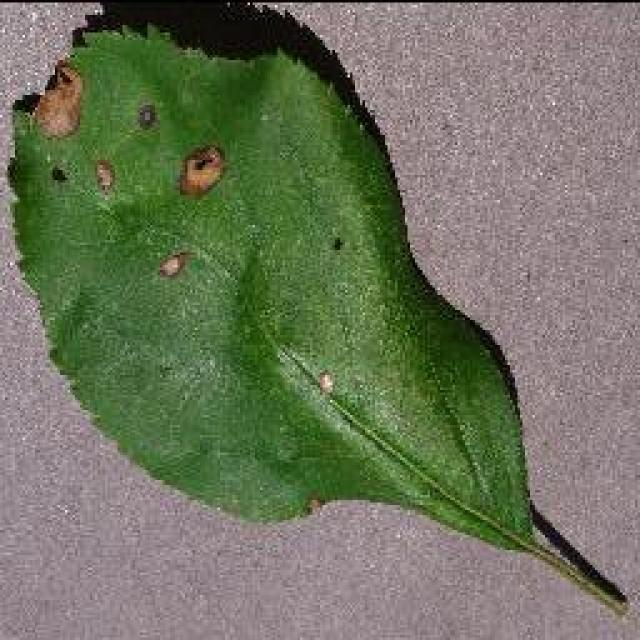Black_rot: (5, 2, 627, 618)
